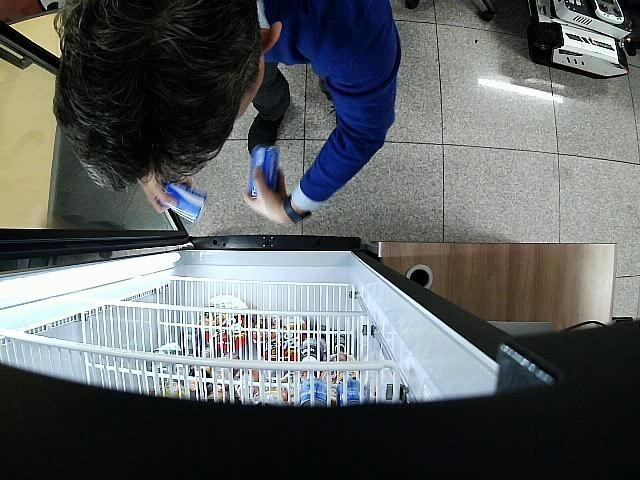13_pocariSweat: (250, 146, 282, 199), (165, 183, 207, 223)
